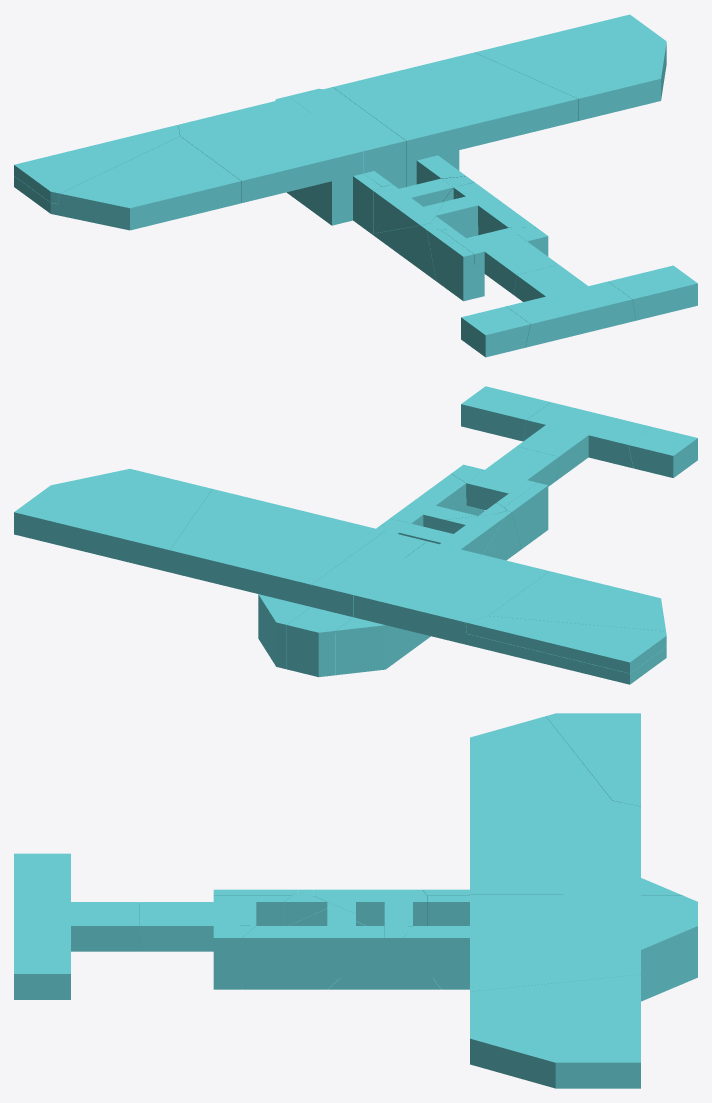
Rendered from BleriotXIMonoplaneCyanDebris.dae.
The picture shows the model from 3 angles, top to bottom: view 1: azimuth 30°, elevation 25°; view 2: azimuth 150°, elevation 25°; view 3: azimuth 270°, elevation 25°; orthographic projection. The views are drawn at different scales.
Visible parts, largest first — view 1: Cube.010_cell, Cube.010_cell.005, Cube.010_cell.006, Cube.010_cell.015, Cube.010_cell.011, Cube.010_cell.008, Cube.010_cell.007, Cube.010_cell.019, Cube.010_cell.012, Cube.010_cell.004, Cube.010_cell.013, Cube.010_cell.010 (+6 smaller); view 2: Cube.010_cell, Cube.010_cell.005, Cube.010_cell.006, Cube.010_cell.008, Cube.010_cell.007, Cube.010_cell.015, Cube.010_cell.019, Cube.010_cell.011, Cube.010_cell.004, Cube.010_cell.012, Cube.010_cell.013, Cube.010_cell.001 (+5 smaller); view 3: Cube.010_cell, Cube.010_cell.006, Cube.010_cell.005, Cube.010_cell.012, Cube.010_cell.015, Cube.010_cell.008, Cube.010_cell.019, Cube.010_cell.007, Cube.010_cell.003, Cube.010_cell.004, Cube.010_cell.017, Cube.010_cell.011 (+6 smaller).
Part boxes in pixels (x1,y1,x2,y2): Cube.010_cell: (308, 52, 578, 186); Cube.010_cell.005: (178, 97, 381, 234); Cube.010_cell.006: (474, 14, 666, 120); Cube.010_cell.015: (58, 136, 241, 230); Cube.010_cell.011: (506, 281, 635, 347); Cube.010_cell.008: (275, 87, 405, 188); Cube.010_cell.007: (14, 125, 179, 203); Cube.010_cell.019: (466, 227, 558, 294); Cube.010_cell.012: (431, 182, 535, 237); Cube.010_cell.004: (608, 265, 697, 320); Cube.010_cell.013: (461, 306, 530, 357); Cube.010_cell.010: (427, 229, 473, 301); Cube.010_cell: (169, 489, 384, 669); Cube.010_cell.005: (335, 541, 549, 675); Cube.010_cell.006: (14, 469, 212, 572); Cube.010_cell.008: (287, 531, 426, 677); Cube.010_cell.007: (466, 616, 666, 673); Cube.010_cell.015: (489, 571, 665, 631); Cube.010_cell.019: (451, 446, 558, 515); Cube.010_cell.011: (523, 402, 652, 468); Cube.010_cell.004: (461, 386, 550, 441); Cube.010_cell.012: (390, 474, 506, 531); Cube.010_cell.013: (628, 427, 697, 477); Cube.010_cell.001: (466, 634, 666, 684); Cube.010_cell: (470, 894, 697, 1001); Cube.010_cell.006: (470, 974, 640, 1088); Cube.010_cell.005: (423, 800, 683, 925); Cube.010_cell.012: (242, 892, 384, 989); Cube.010_cell.015: (470, 716, 611, 800); Cube.010_cell.008: (427, 870, 697, 925); Cube.010_cell.019: (139, 902, 256, 989); Cube.010_cell.007: (546, 713, 640, 806); Cube.010_cell.003: (328, 926, 441, 989); Cube.010_cell.004: (14, 937, 70, 999); Cube.010_cell.017: (71, 902, 144, 951); Cube.010_cell.011: (14, 879, 70, 936).
Bounding box in the file's own units: 5.8 × 4.8 × 0.6.
